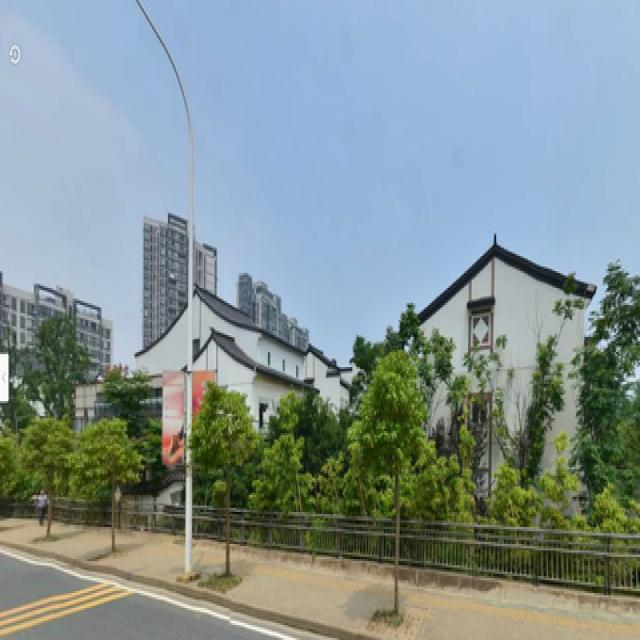cinn: (198, 378, 254, 586), (86, 425, 130, 548), (24, 425, 73, 531)
